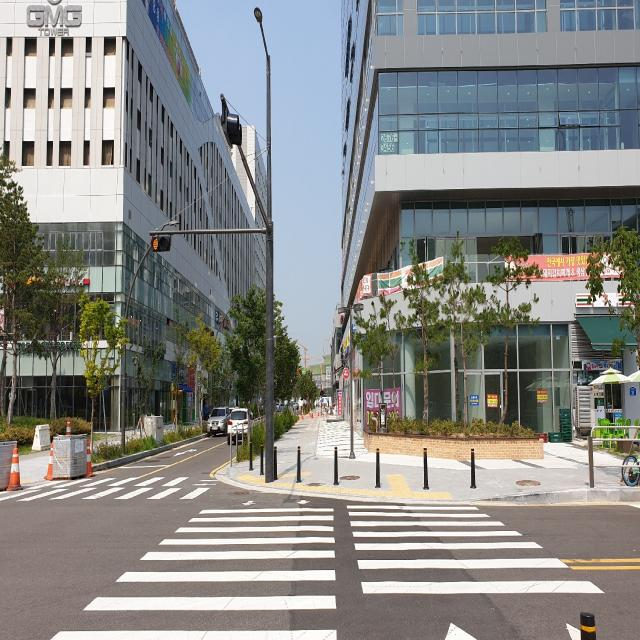횡단보도: (49, 498, 608, 640), (9, 474, 217, 509)
